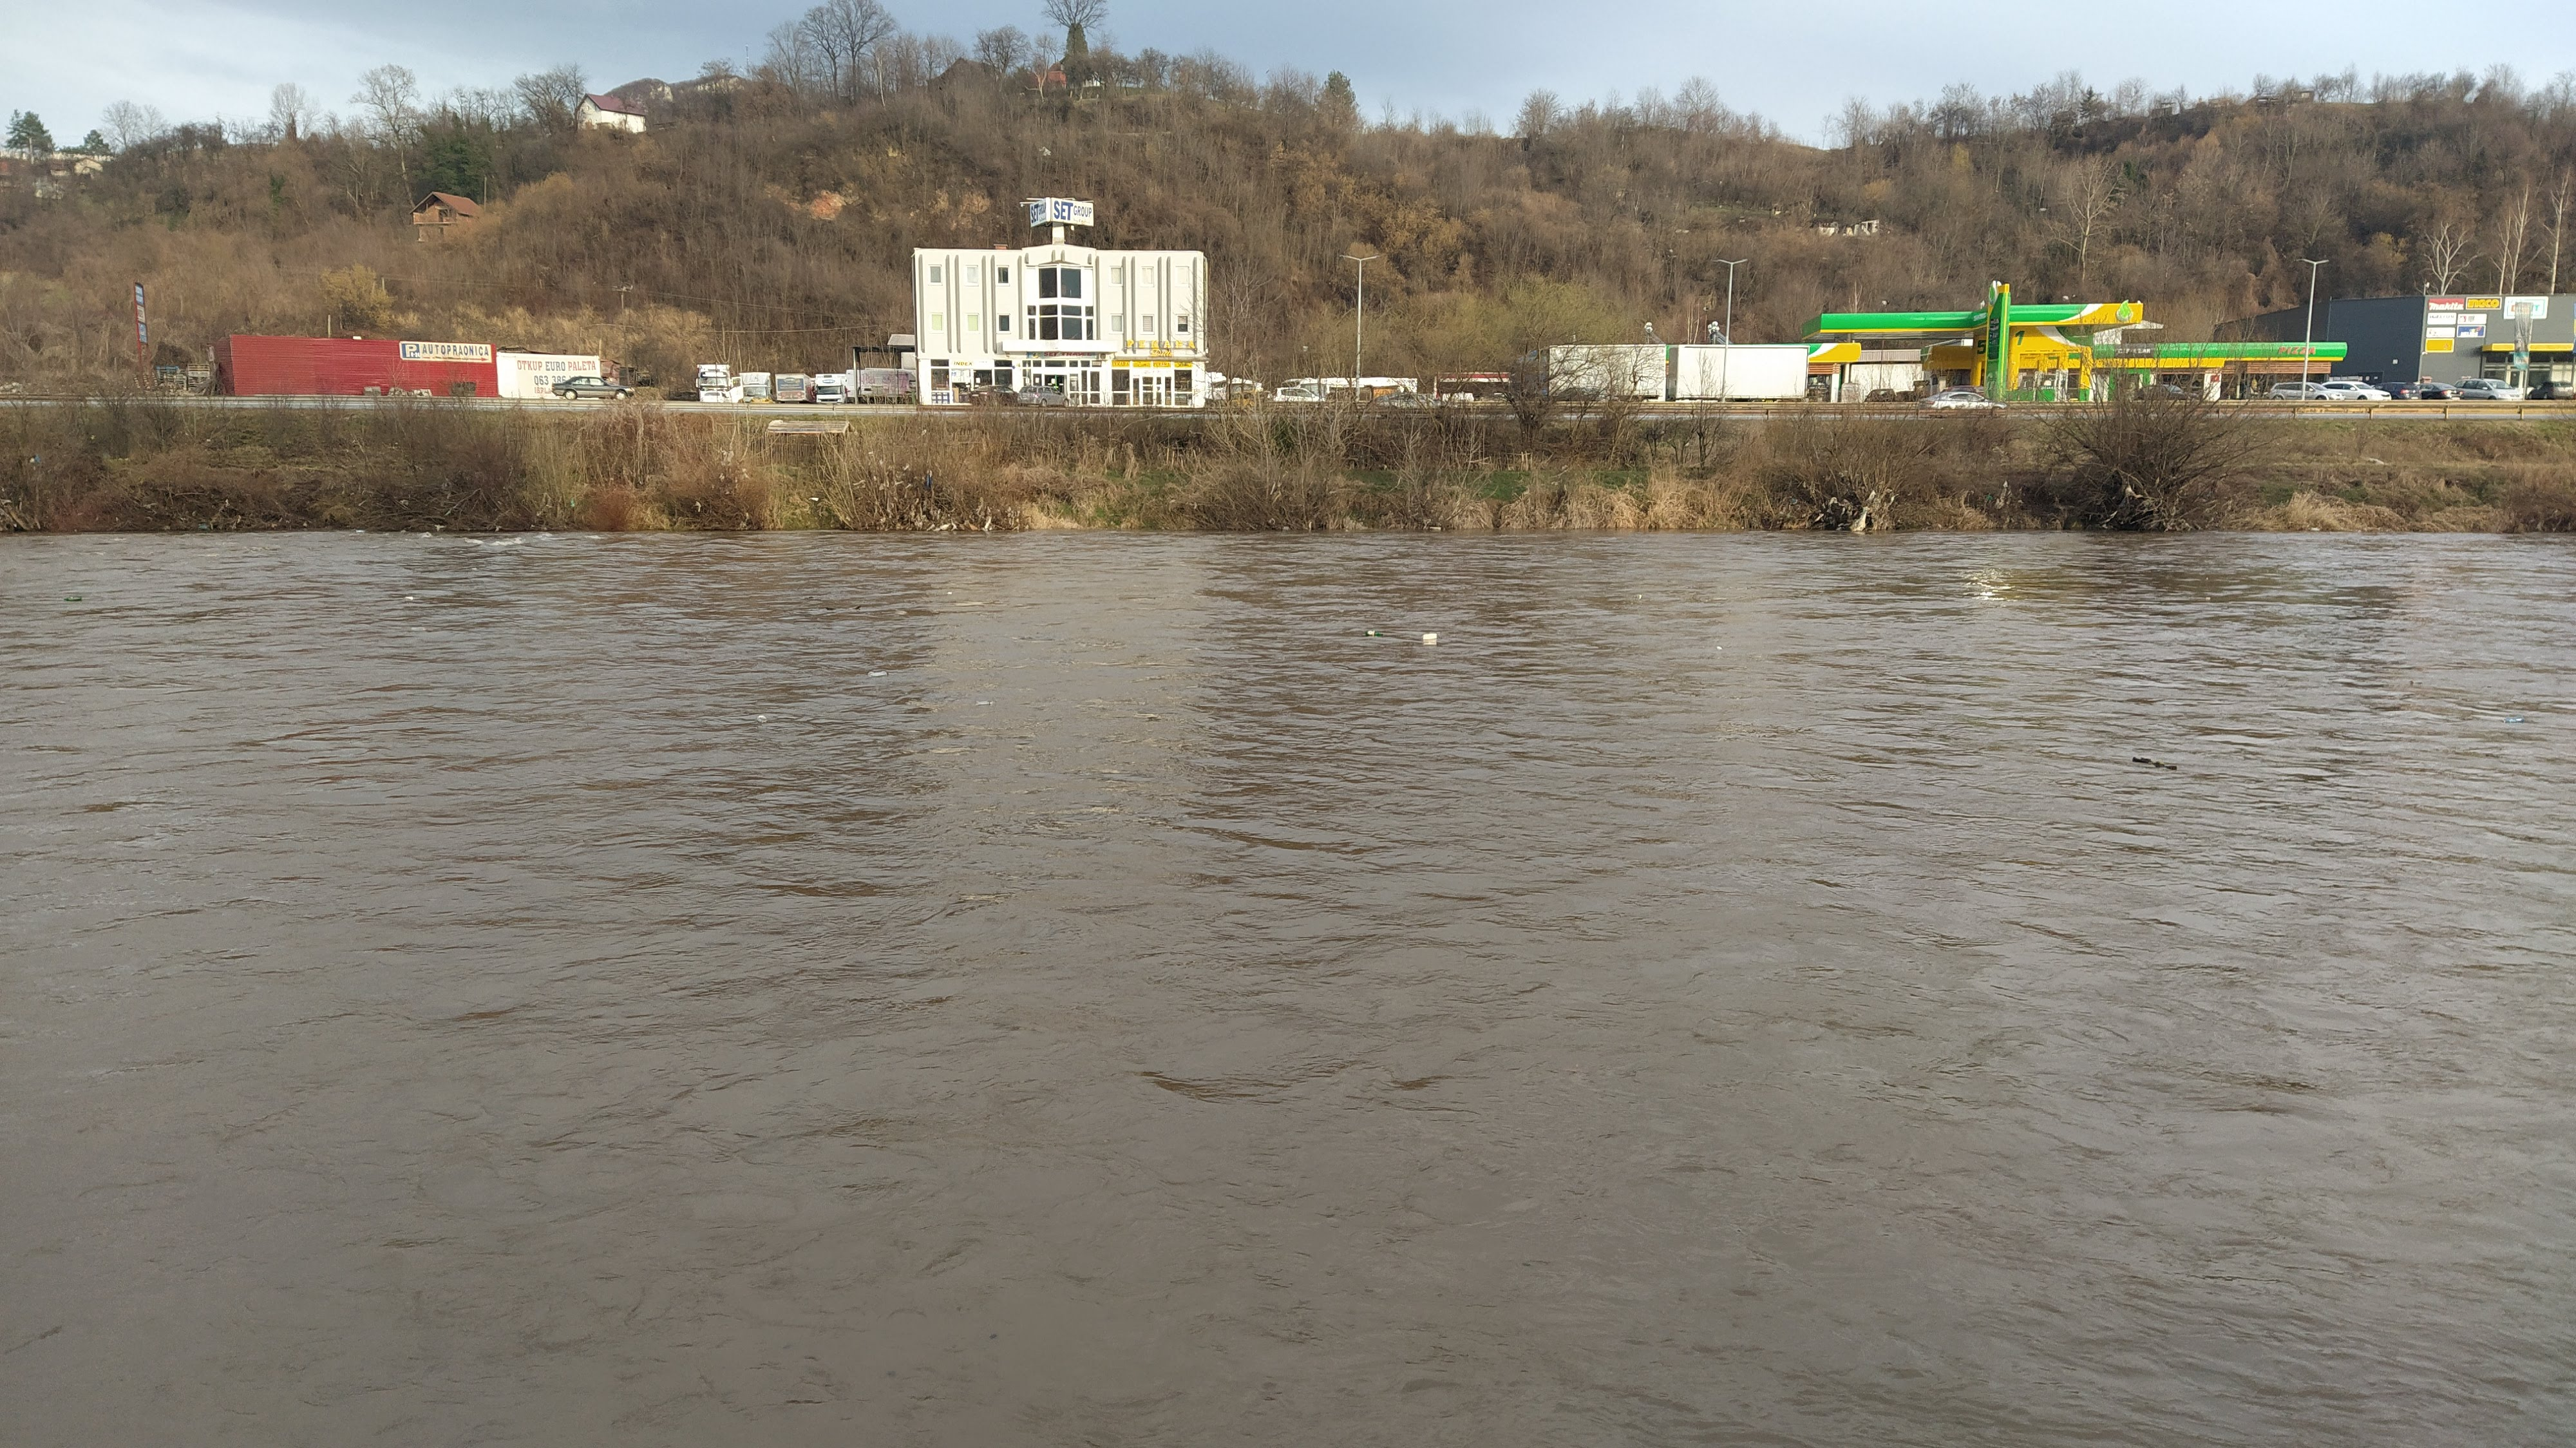Plastic Bottle: (2503, 715, 2525, 724), (1366, 630, 1384, 637), (869, 671, 888, 676), (2132, 758, 2151, 763), (895, 609, 908, 616), (410, 627, 425, 632), (64, 597, 83, 600), (757, 715, 766, 722), (975, 701, 993, 705), (2166, 765, 2176, 770), (356, 529, 364, 533), (405, 597, 412, 600)
